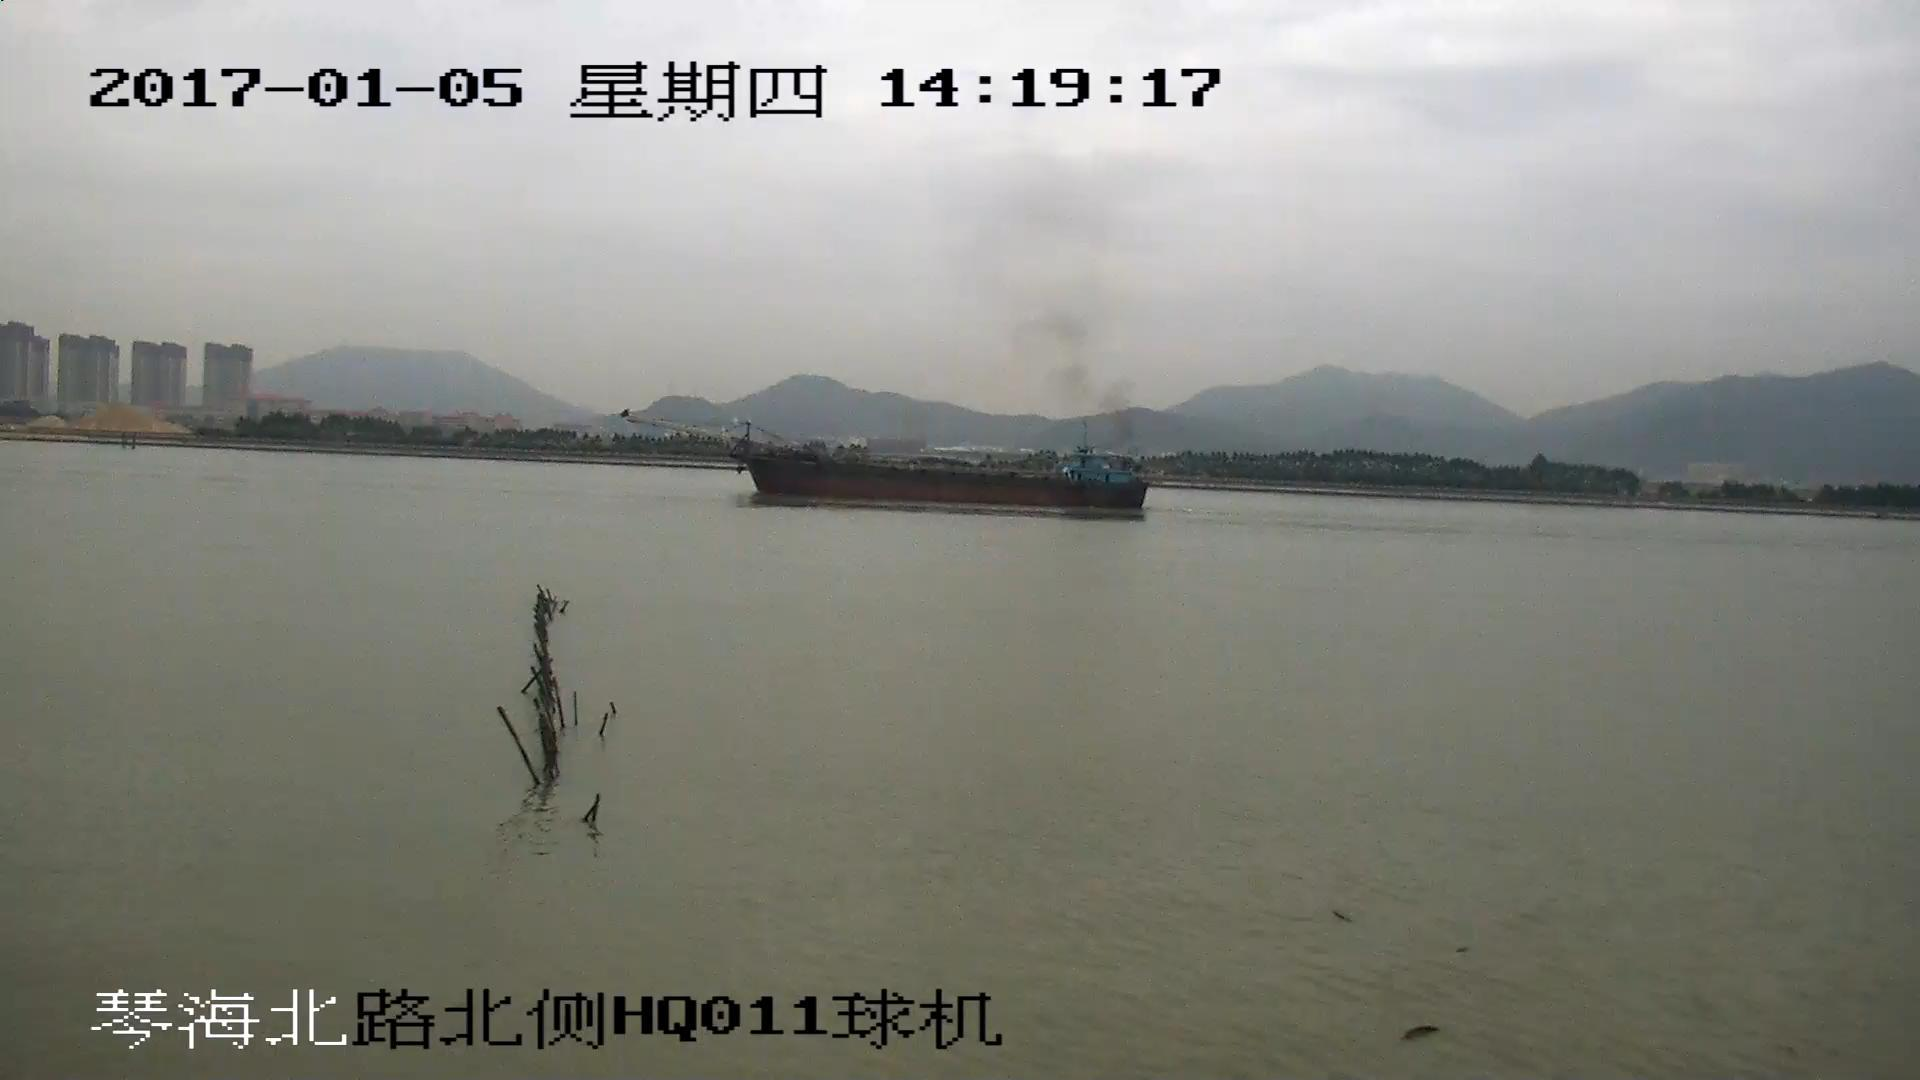Ship: (622, 411, 1146, 508)
